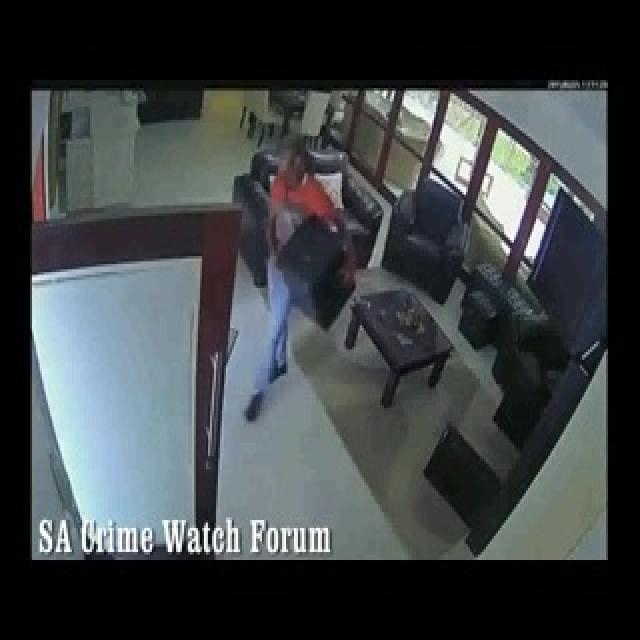thief: (260, 130, 328, 420)
